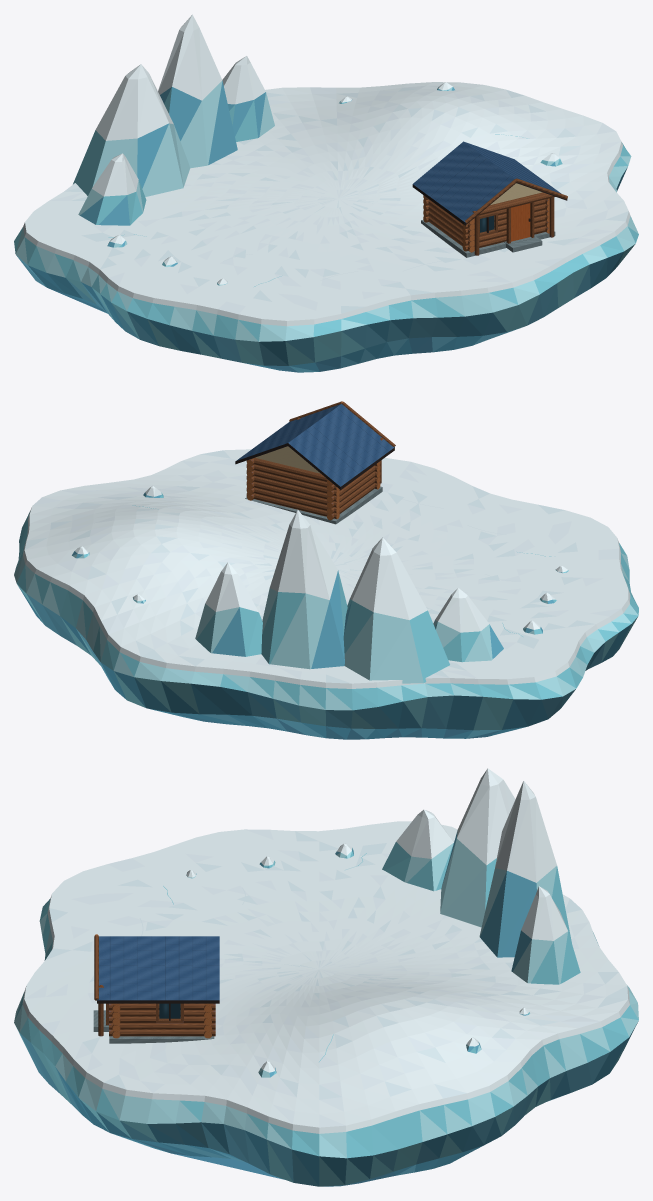
File: Iceberg_With_Cabin_v001.fbx
The picture shows the model from 3 angles, top to bottom: view 1: azimuth 30°, elevation 25°; view 2: azimuth 150°, elevation 25°; view 3: azimuth 270°, elevation 25°; orthographic projection. The views are drawn at different scales.
Visible parts, largest first — view 1: WalkSurface_Snow_Continuous, Iceberg_Cliffs_Layered, IcePeak_01, IcePeak_02, Roof_Left, IcePeak_04, IcePeak_03, Roof_Right, Cabin_Foundation; view 2: WalkSurface_Snow_Continuous, Iceberg_Cliffs_Layered, IcePeak_01, IcePeak_02, Roof_Left, IcePeak_03, IcePeak_04, Roof_Right, Cabin_Foundation, Gable_Back, Log_Back_07, Log_Back_03 (+5 smaller); view 3: WalkSurface_Snow_Continuous, Iceberg_Cliffs_Layered, Roof_Right, IcePeak_02, IcePeak_01, IcePeak_03, IcePeak_04, Log_Side_Right_01, Cabin_Foundation, Log_Side_Right_02.
Part boxes in pixels (x1=…): WalkSurface_Snow_Continuous: x1=25, y1=82, x2=628, y2=320; Iceberg_Cliffs_Layered: x1=14, y1=141, x2=638, y2=372; IcePeak_01: x1=73, y1=64, x2=190, y2=196; IcePeak_02: x1=158, y1=14, x2=237, y2=168; Roof_Left: x1=412, y1=141, x2=515, y2=225; IcePeak_04: x1=78, y1=153, x2=146, y2=225; IcePeak_03: x1=222, y1=56, x2=274, y2=141; Roof_Right: x1=464, y1=142, x2=567, y2=200; Cabin_Foundation: x1=421, y1=220, x2=555, y2=257; WalkSurface_Snow_Continuous: x1=24, y1=449, x2=628, y2=683; Iceberg_Cliffs_Layered: x1=14, y1=507, x2=638, y2=739; IcePeak_01: x1=343, y1=537, x2=449, y2=683; IcePeak_02: x1=261, y1=509, x2=347, y2=669; Roof_Left: x1=288, y1=404, x2=394, y2=489; IcePeak_03: x1=195, y1=562, x2=262, y2=656; IcePeak_04: x1=433, y1=588, x2=503, y2=662; Roof_Right: x1=235, y1=404, x2=340, y2=464; Cabin_Foundation: x1=245, y1=486, x2=382, y2=524; Gable_Back: x1=255, y1=446, x2=320, y2=473; Log_Back_07: x1=246, y1=457, x2=327, y2=481; Log_Back_03: x1=246, y1=481, x2=339, y2=507; WalkSurface_Snow_Continuous: x1=24, y1=821, x2=627, y2=1127; Iceberg_Cliffs_Layered: x1=14, y1=895, x2=638, y2=1186; Roof_Right: x1=97, y1=936, x2=219, y2=1003; IcePeak_02: x1=479, y1=781, x2=571, y2=957; IcePeak_01: x1=440, y1=768, x2=515, y2=927; IcePeak_03: x1=511, y1=886, x2=580, y2=984; IcePeak_04: x1=382, y1=809, x2=453, y2=891; Log_Side_Right_01: x1=109, y1=1029, x2=215, y2=1036; Cabin_Foundation: x1=109, y1=1036, x2=214, y2=1043; Log_Side_Right_02: x1=109, y1=1023, x2=215, y2=1029.
Size of the model in its own units: 2951 by 1097 by 2440.
Materials: 9 (1 with a texture image).
